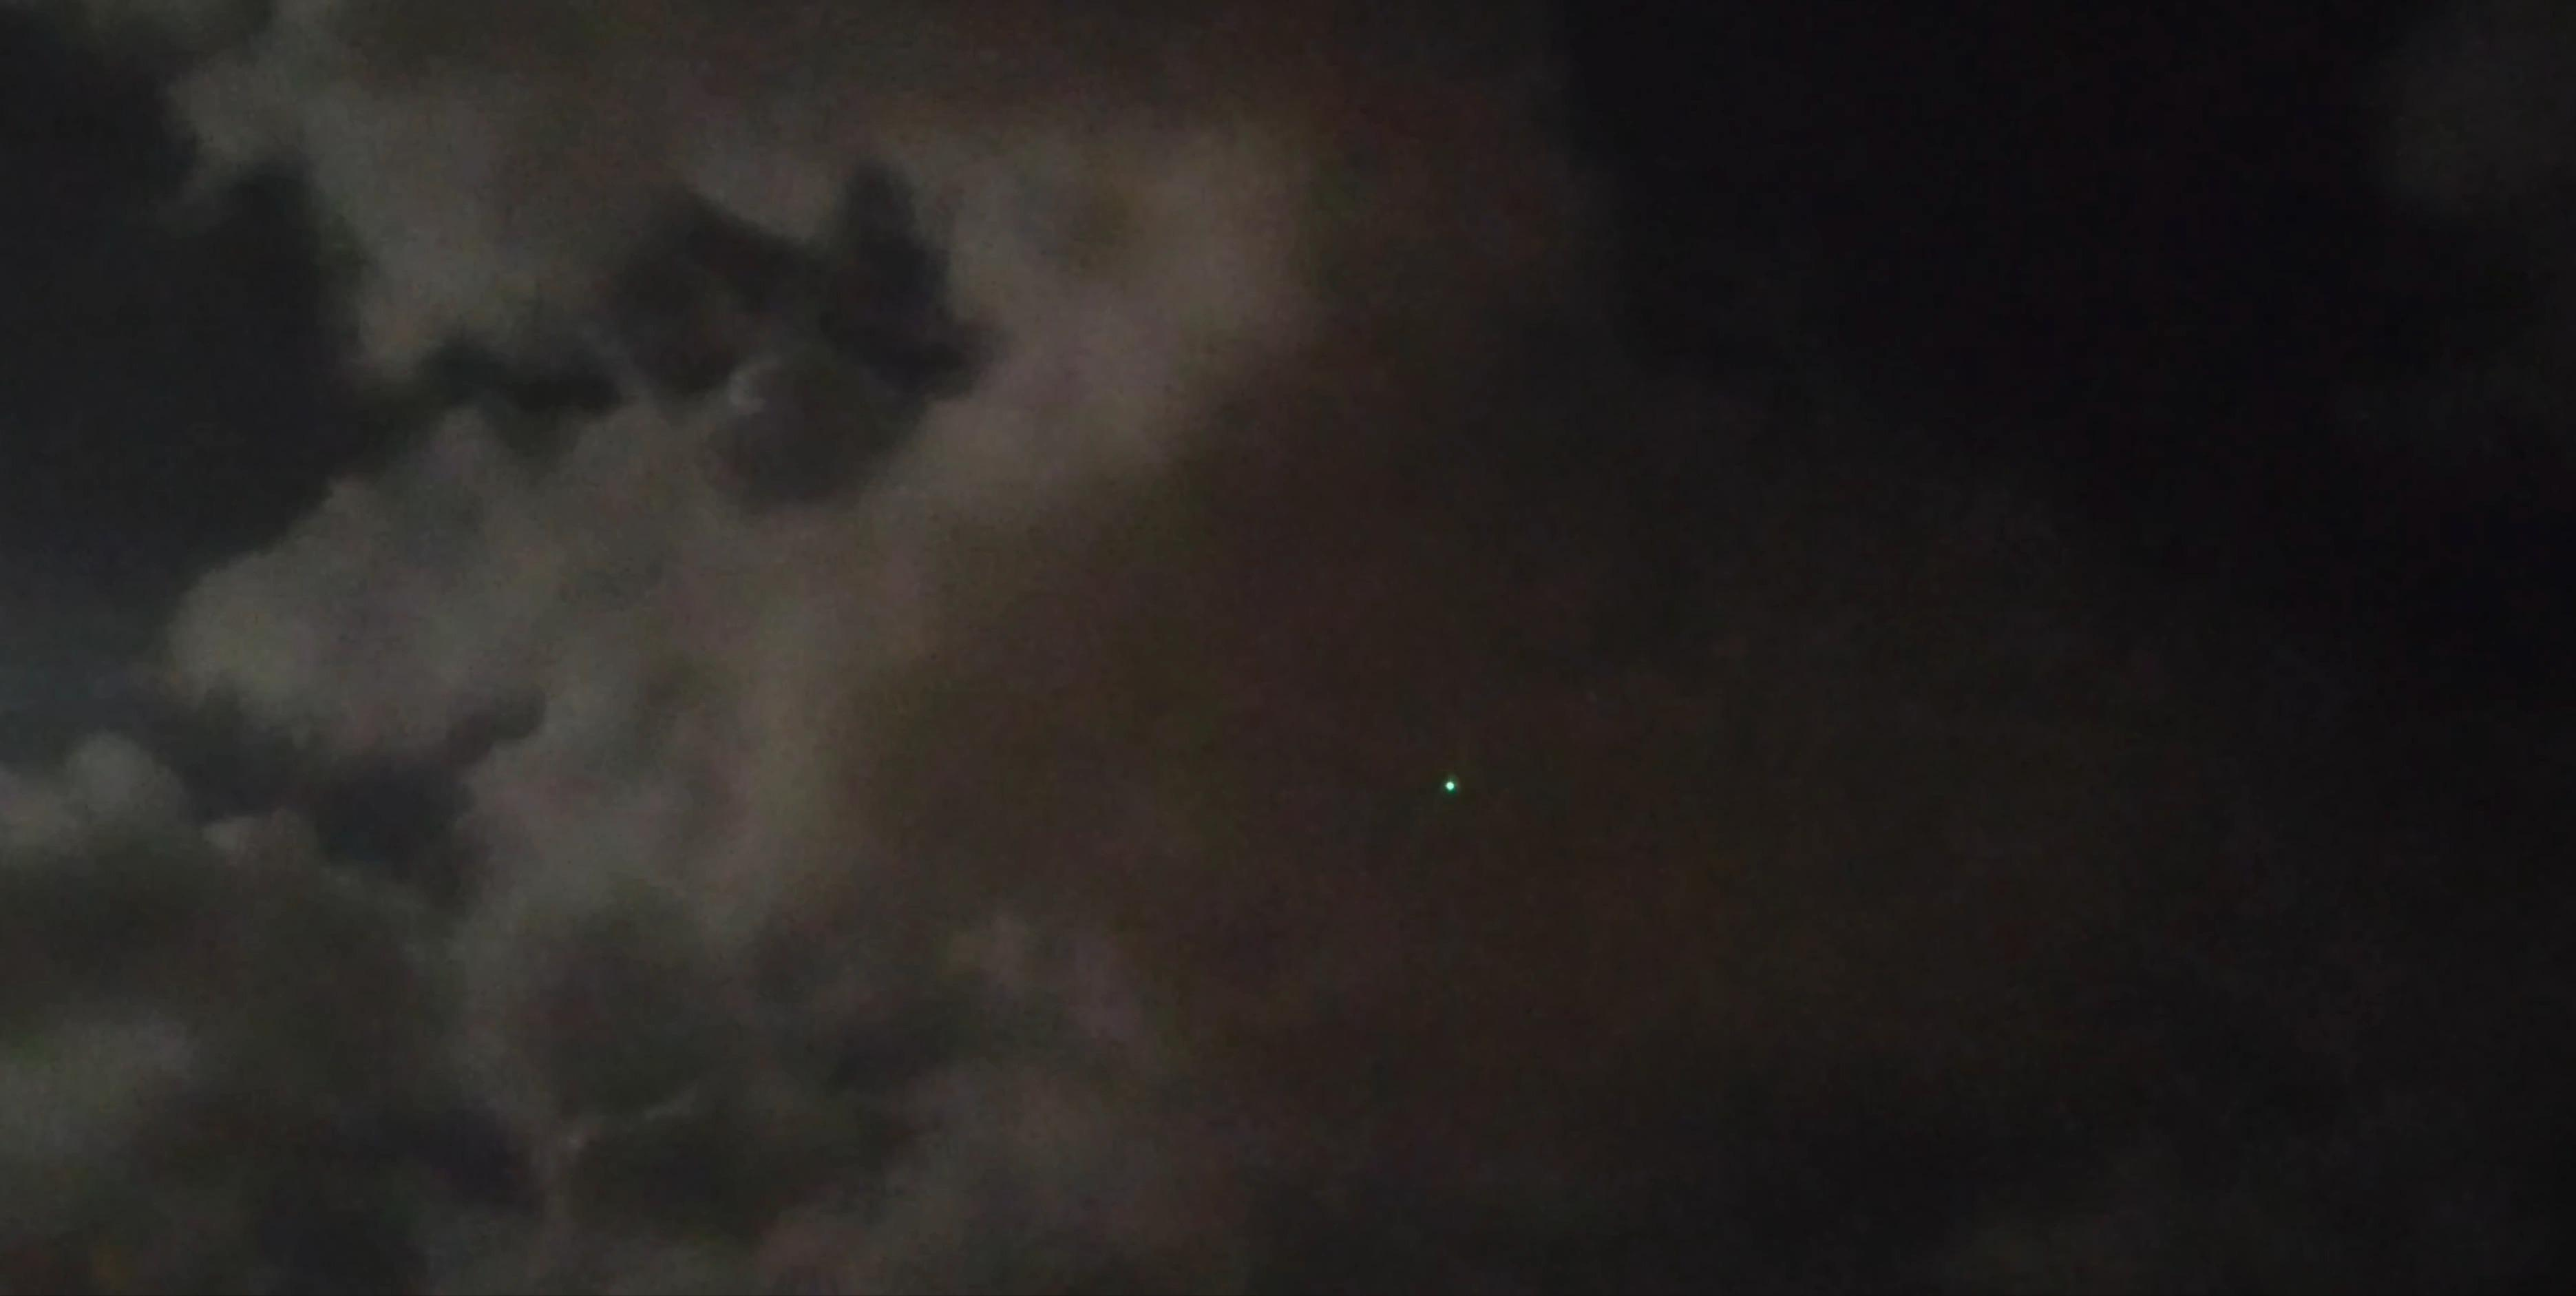Plane: (1426, 770, 1472, 817)
